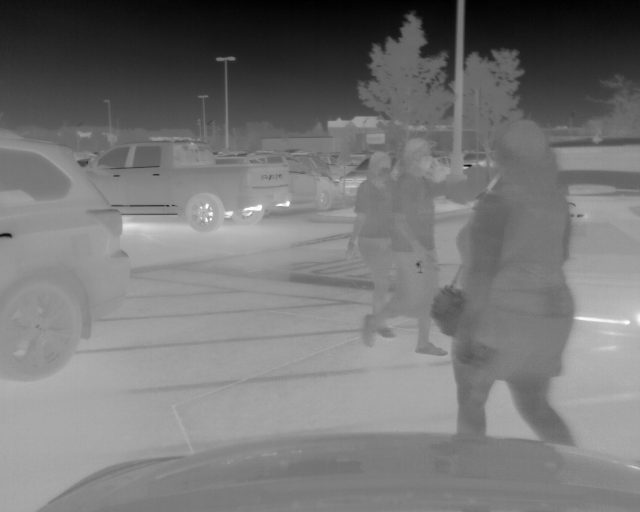car: (1, 127, 133, 382), (81, 141, 291, 233), (216, 149, 337, 213), (341, 154, 372, 199), (460, 147, 497, 171)
people: (431, 117, 578, 449), (360, 136, 448, 357), (345, 153, 396, 336)
